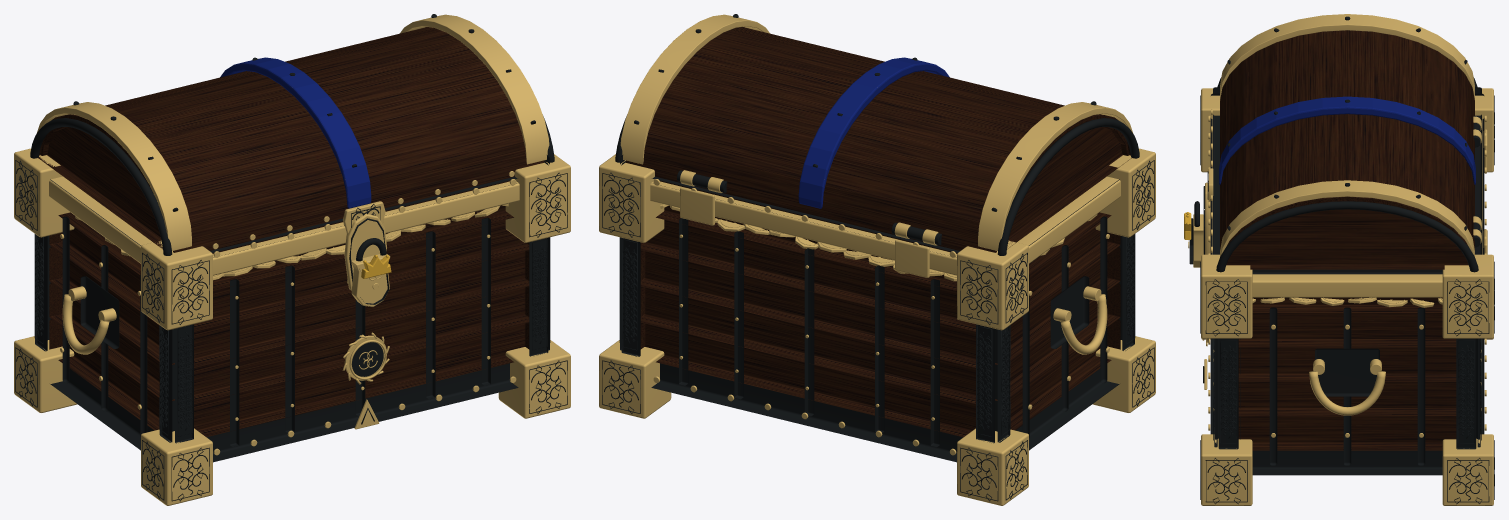
The model's file is royal_treasure_chest.glb.
3 renders of one model, left to right at view 1: azimuth 30°, elevation 25°; view 2: azimuth 150°, elevation 25°; view 3: azimuth 270°, elevation 25°, orthographic. The views are drawn at different scales.
Parts seen in each view (by area): view 1: horizontal_front_back_plank.004, arched_longitudinal_lid_board, horizontal_front_back_plank.002, horizontal_front_back_plank, arched_longitudinal_lid_board.002, arched_longitudinal_lid_board.001, arched_longitudinal_lid_board.003, horizontal_front_back_plank.006, arched_longitudinal_lid_board.004, front_back_rail, front_back_rail.002, solid_lid_end_cheek (+38 smaller); view 2: horizontal_front_back_plank.003, horizontal_front_back_plank.005, horizontal_front_back_plank.001, arched_longitudinal_lid_board.007, horizontal_front_back_plank.007, arched_longitudinal_lid_board.009, arched_longitudinal_lid_board.008, arched_longitudinal_lid_board.006, arched_longitudinal_lid_board.005, front_back_rail.001, solid_lid_end_cheek, arched_longitudinal_lid_board.004 (+37 smaller); view 3: solid_lid_end_cheek.001, horizontal_end_plank.001, horizontal_end_plank.007, horizontal_end_plank.003, arched_longitudinal_lid_board.004, arched_longitudinal_lid_board.005, arched_longitudinal_lid_board.006, arched_longitudinal_lid_board.003, horizontal_end_plank.005, royal_blue_enamel_ribbon, end_rail.001, end_rail.003 (+32 smaller).
Boxes of the visible parts, x1,y1,x2,y2 form: horizontal_front_back_plank.004: [194, 250, 529, 367]; arched_longitudinal_lid_board: [173, 142, 544, 253]; horizontal_front_back_plank.002: [194, 286, 529, 403]; horizontal_front_back_plank: [194, 322, 529, 437]; arched_longitudinal_lid_board.002: [147, 86, 514, 194]; arched_longitudinal_lid_board.001: [182, 114, 523, 222]; arched_longitudinal_lid_board.003: [128, 62, 499, 181]; horizontal_front_back_plank.006: [194, 220, 529, 331]; arched_longitudinal_lid_board.004: [107, 43, 481, 155]; front_back_rail: [207, 363, 518, 462]; front_back_rail.002: [213, 181, 519, 275]; solid_lid_end_cheek: [38, 115, 162, 249]; horizontal_front_back_plank.003: [640, 286, 975, 403]; horizontal_front_back_plank.005: [640, 250, 975, 367]; horizontal_front_back_plank.001: [640, 322, 975, 437]; arched_longitudinal_lid_board.007: [655, 86, 1022, 194]; horizontal_front_back_plank.007: [640, 220, 975, 331]; arched_longitudinal_lid_board.009: [625, 142, 996, 253]; arched_longitudinal_lid_board.008: [646, 114, 987, 222]; arched_longitudinal_lid_board.006: [670, 62, 1041, 181]; arched_longitudinal_lid_board.005: [688, 43, 1062, 155]; front_back_rail.001: [651, 363, 962, 462]; solid_lid_end_cheek: [1007, 115, 1131, 249]; arched_longitudinal_lid_board.004: [708, 31, 1082, 135]; solid_lid_end_cheek.001: [1226, 209, 1468, 269]; horizontal_end_plank.001: [1238, 416, 1456, 450]; horizontal_end_plank.007: [1238, 313, 1456, 347]; horizontal_end_plank.003: [1238, 381, 1456, 416]; arched_longitudinal_lid_board.004: [1308, 30, 1347, 204]; arched_longitudinal_lid_board.005: [1347, 30, 1386, 204]; arched_longitudinal_lid_board.006: [1387, 34, 1422, 214]; arched_longitudinal_lid_board.003: [1272, 34, 1307, 214]; horizontal_end_plank.005: [1238, 347, 1456, 381]; royal_blue_enamel_ribbon: [1219, 96, 1475, 184]; end_rail.001: [1252, 450, 1442, 475]; end_rail.003: [1252, 274, 1442, 297].
Size of the model in its own units: 1.77 by 1.27 by 1.14.
19 materials, 15 textured.
